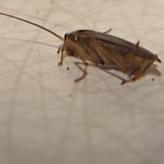cockroach: (52, 29, 162, 80)
